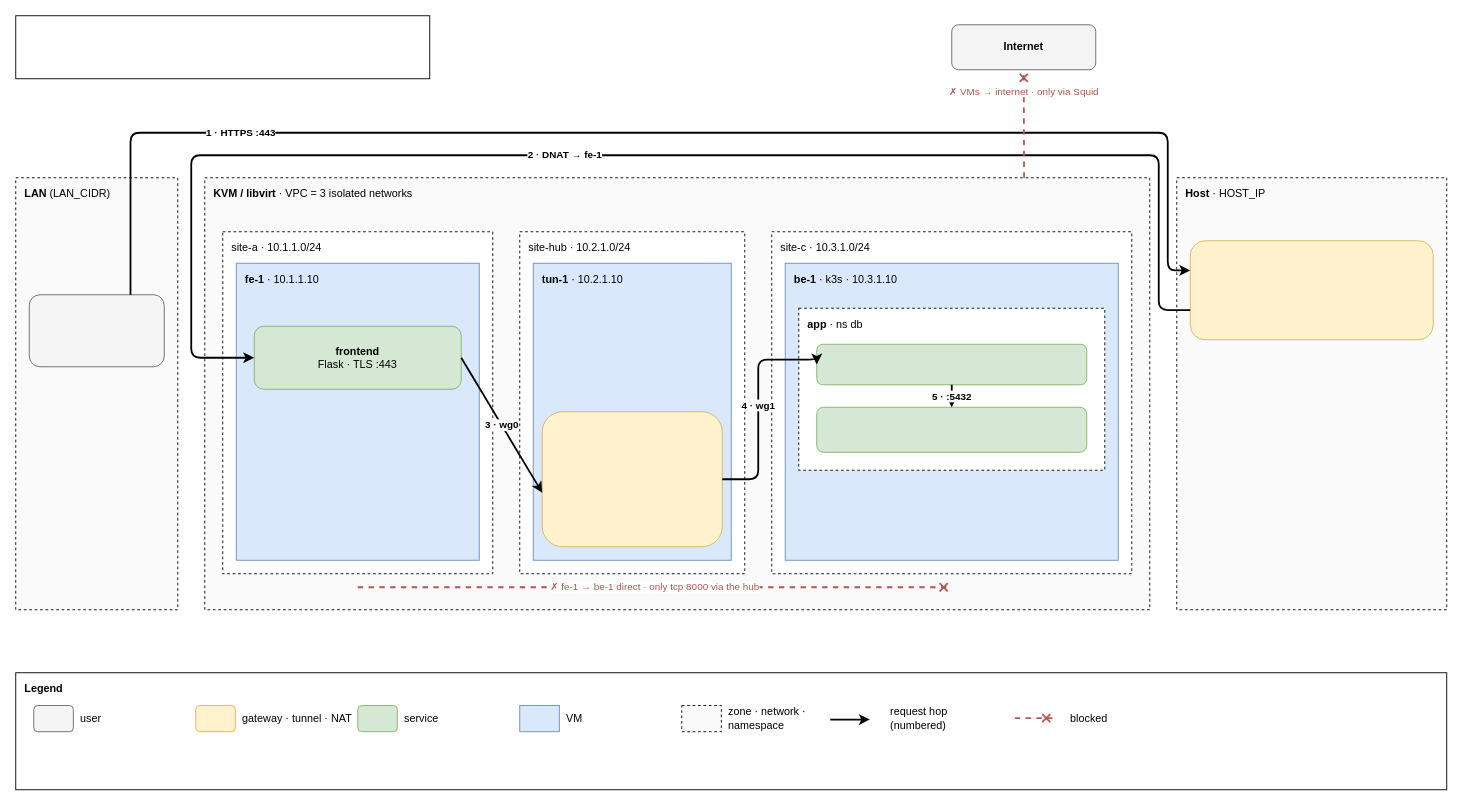
Image size: 1463x806. Some labels were removed from this diagram. The shapes that lost their labels are listed below. From the top down, each one's centre as x and y in pixels, then its label:
the point at 222,47: Request Flow (LLD) SingleClusterIaCLab · v0.2 · 2026-11-18 · Joosung Min
the point at 1311,290: nftables DNAT HOST_IP:443 → fe-1 198.51.100.11
the point at 96,330: User browser · app.lab.test
the point at 951,364: PostgREST :8000
the point at 951,429: postgres :5432
the point at 631,479: WireGuard hub forwards only fe-1 → be-1 tcp 8000
